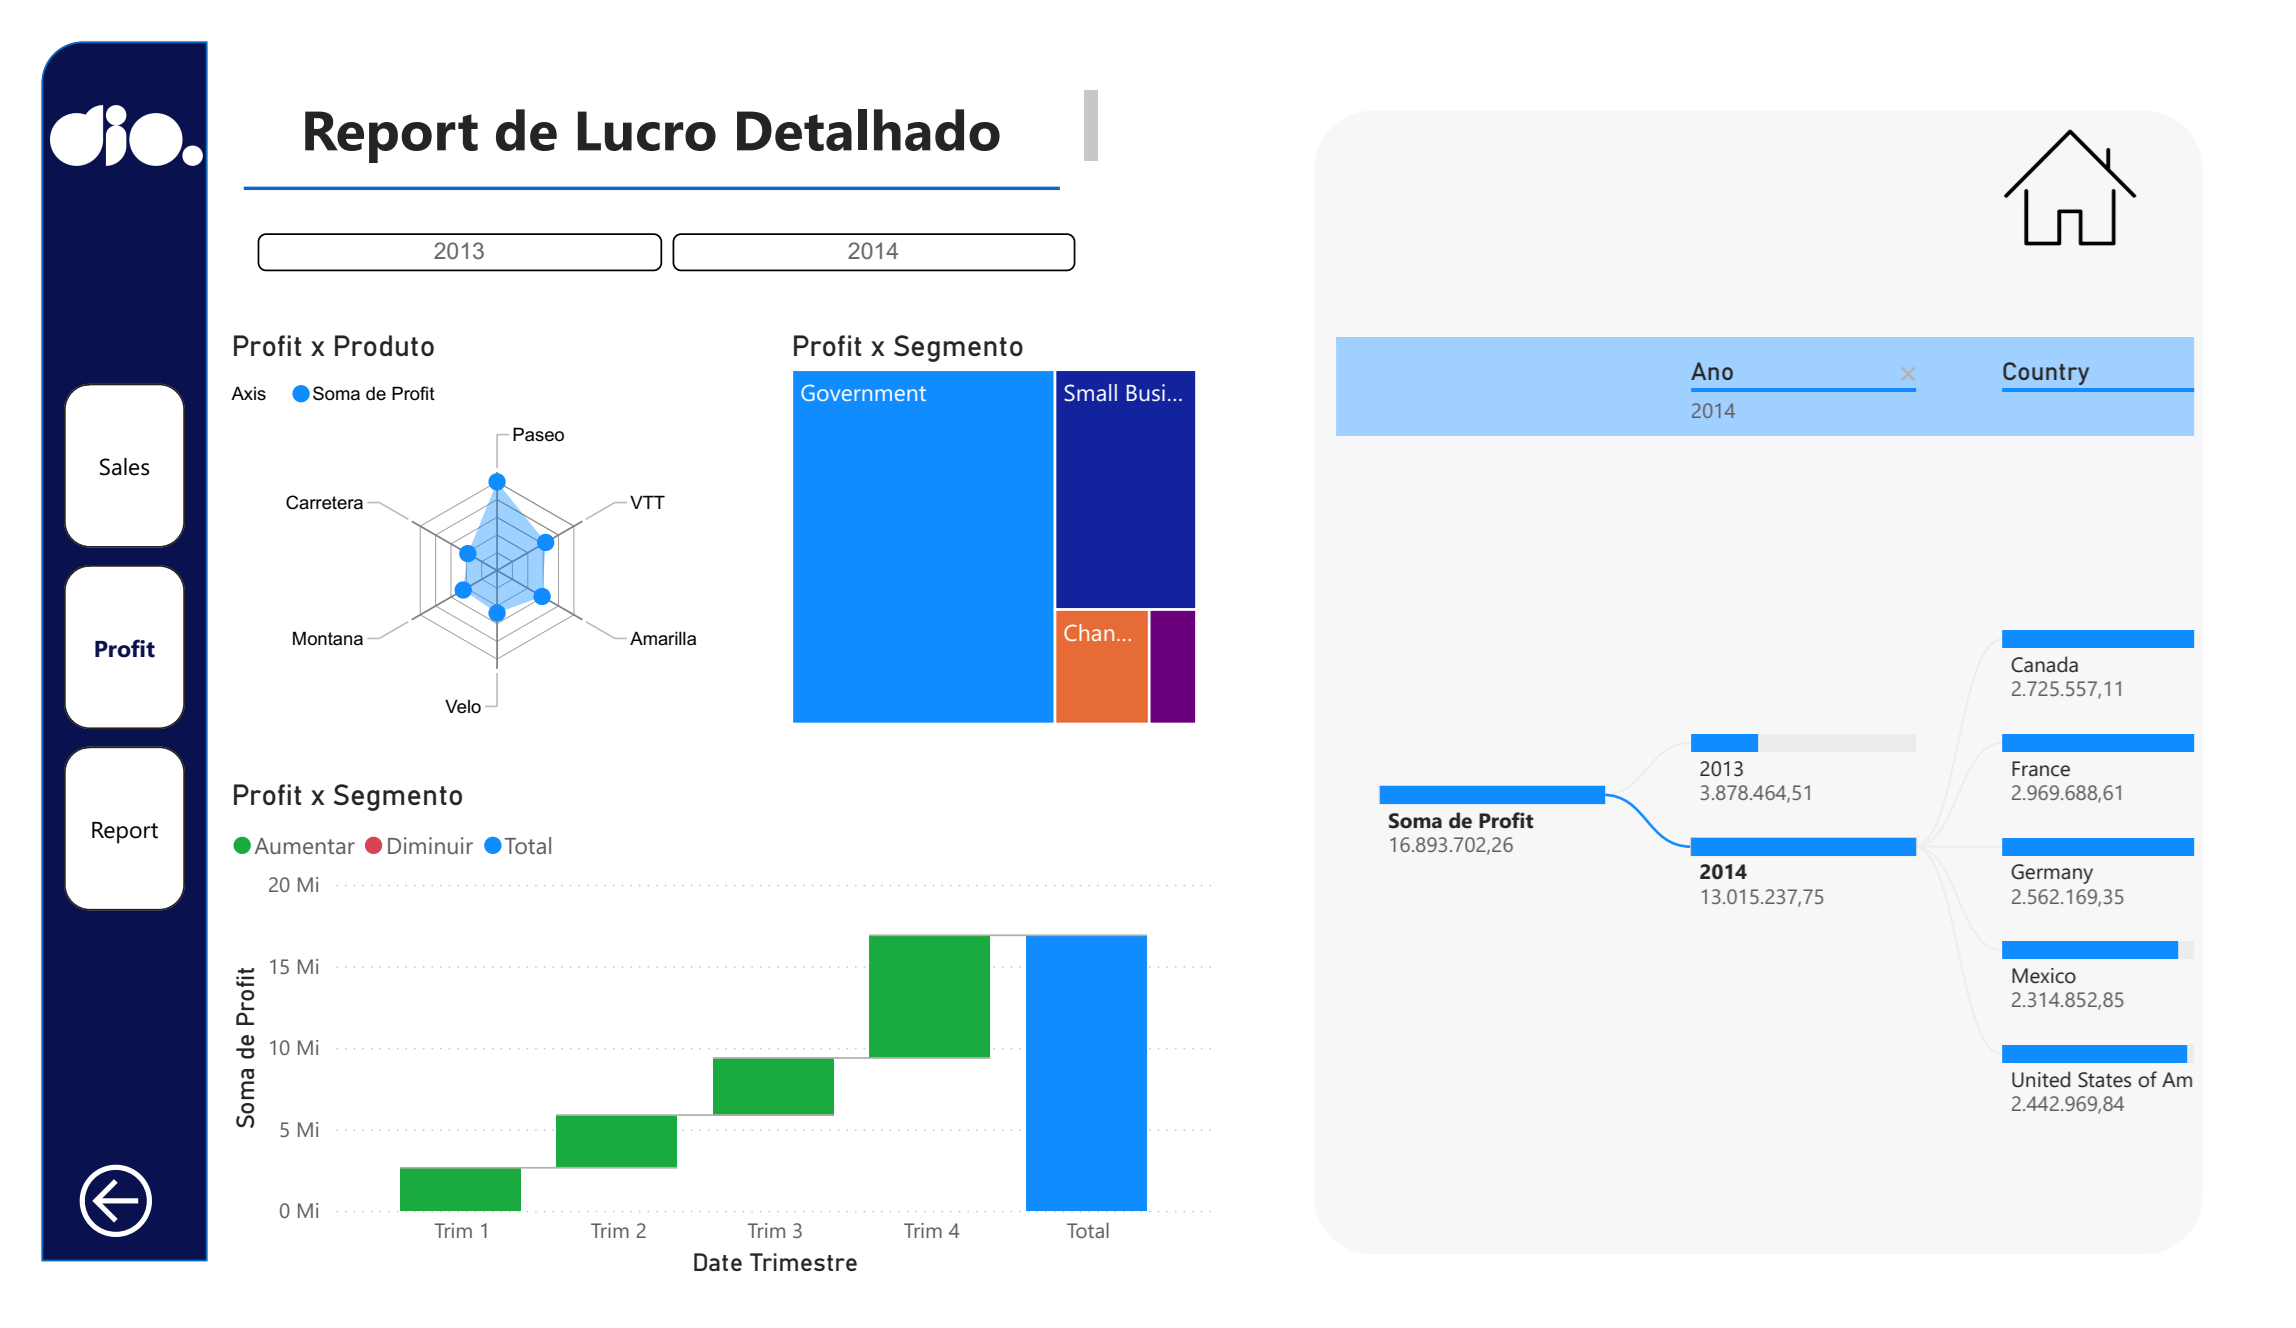

Layout of this report page (visuals, bound fields, positions):
{"tool":"powerbi","page":{"name":"Profit","canvas":[1280,720],"ordinal":1},"visuals":[{"type":"shape","box":[735.8,40.3,513.8,662.1],"z":0},{"type":"shape","box":[116.9,66.8,472.5,36.3],"z":1000},{"type":"textbox","box":[145.4,22.6,470.5,52.1],"z":2000},{"type":"shape","box":[0,0,96.4,706.2],"z":3000},{"type":"image","title":"logo_dio","box":[0,22.3,98.2,63.2],"z":4000},{"type":"pageNavigator","box":[13.4,197.7,69.9,306.2],"z":5000},{"type":"decompositionTreeVisual","fields":{"Analyze":["Sum(financials.Profit)"],"ExplainBy":["financials.Date.Variation.Hierarquia de datas.Ano","financials.Country"]},"box":[743.6,166,505.9,517.7],"z":6000},{"type":"waterfallChart","title":"Profit x Segmento","fields":{"Category":["financials.Date.Variation.Hierarquia de datas.Trimestre"],"Y":["Sum(financials.Profit)"]},"box":[105.1,426.3,577.6,293.7],"z":7000},{"type":"ChicletSlicer1448559807354","fields":{"Category":["financials.Date.Variation.Hierarquia de datas.Ano"]},"box":[116.9,103.1,489.2,48.1],"z":8000},{"type":"RadarChart1446119667547","title":"Profit x Produto","fields":{"Category":["financials.Product"],"Y":["Sum(financials.Profit)"]},"box":[105.1,166,317.3,233.8],"z":9000},{"type":"treemap","title":"Profit x Segmento","fields":{"Values":["Sum(financials.Profit)"],"Group":["financials.Segment"]},"box":[429.3,166,243.6,233.8],"z":10000},{"type":"actionButton","box":[15.9,622.4,54,96.9],"z":11000},{"type":"image","box":[1117.9,30.5,111,109],"z":12000}]}

Visuals, with their boxes on the page's 1280x720 design canvas (x1, y1, x2, y2). These are canvas units, not pixel positions in the 2296x1328 screenshot, which may show the page scaled, cropped or inside an application window:
shape: BBox(736, 40, 1250, 702)
shape: BBox(117, 67, 589, 103)
textbox: BBox(145, 23, 616, 75)
shape: BBox(0, 0, 96, 706)
"logo_dio" image: BBox(0, 22, 98, 86)
pageNavigator: BBox(13, 198, 83, 504)
decompositionTreeVisual - Sum(financials.Profit) x financials.Date.Variation.Hierarquia de datas.Ano: BBox(744, 166, 1250, 684)
"Profit x Segmento" waterfallChart: BBox(105, 426, 683, 720)
ChicletSlicer1448559807354 - financials.Date.Variation.Hierarquia de datas.Ano: BBox(117, 103, 606, 151)
"Profit x Produto" RadarChart1446119667547: BBox(105, 166, 422, 400)
"Profit x Segmento" treemap: BBox(429, 166, 673, 400)
actionButton: BBox(16, 622, 70, 719)
image: BBox(1118, 30, 1229, 140)
